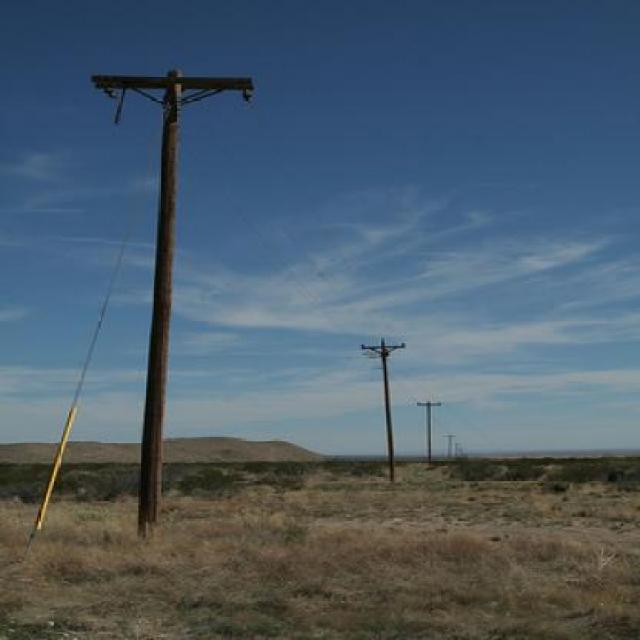pole: (82, 62, 272, 558), (350, 328, 416, 487), (412, 397, 439, 469)
